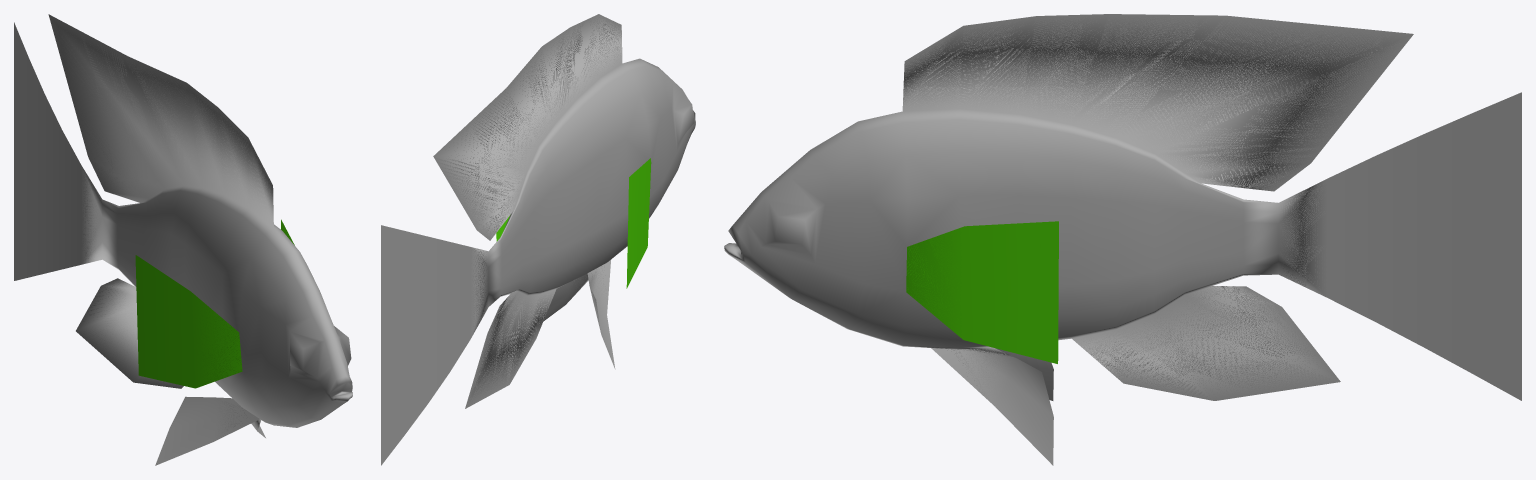
The model's file is Pomacentridae_A_S.fbx.
3 renders of one model, left to right at view 1: azimuth 30°, elevation 25°; view 2: azimuth 150°, elevation 25°; view 3: azimuth 270°, elevation 25°, orthographic. The views are drawn at different scales.
Visible parts, largest first — view 1: Pomacentridae_A_S_Mesh; view 2: Pomacentridae_A_S_Mesh; view 3: Pomacentridae_A_S_Mesh.
Part boxes in pixels (bbox=[...]): Pomacentridae_A_S_Mesh: bbox=[14, 14, 352, 465]; Pomacentridae_A_S_Mesh: bbox=[381, 14, 695, 465]; Pomacentridae_A_S_Mesh: bbox=[724, 14, 1521, 465].
Bounding box in the file's own units: 0.00253 × 0.00586 × 0.0101.
